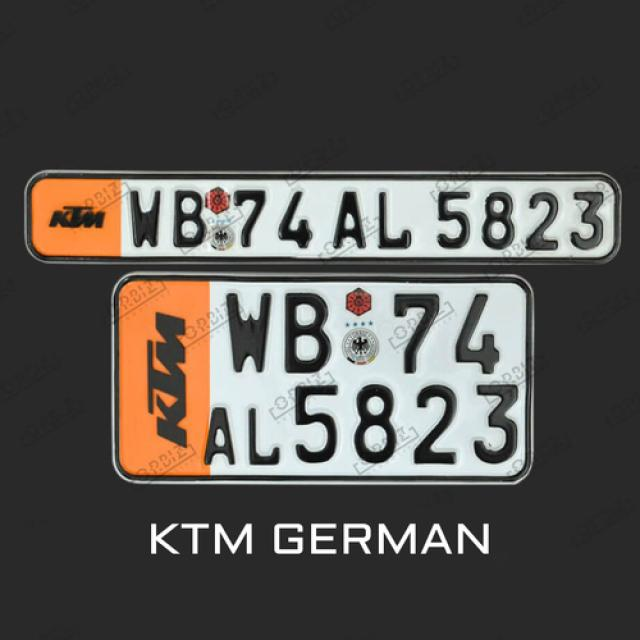plate: (112, 274, 538, 484), (23, 170, 622, 264)
